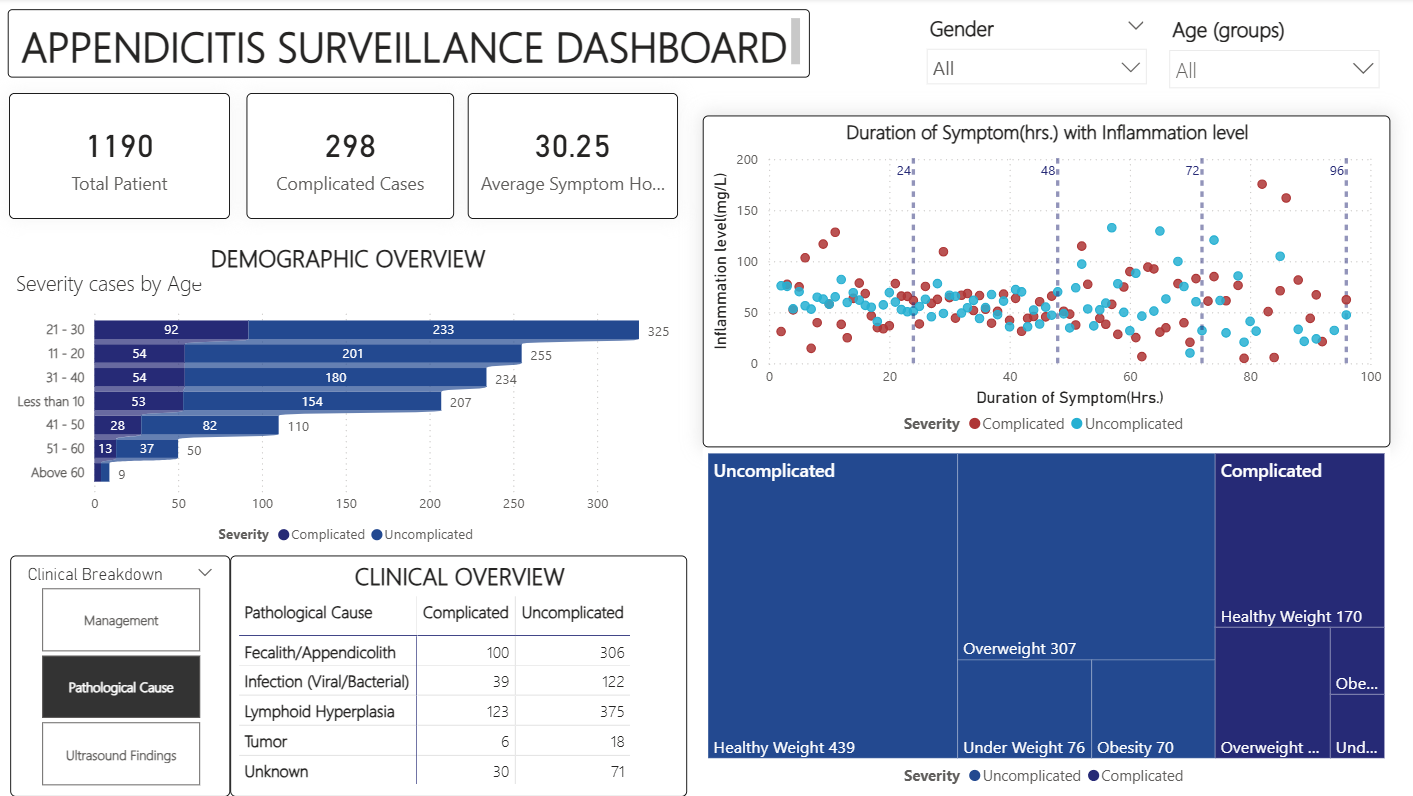

Layout of this report page (visuals, bound fields, positions):
{"tool":"powerbi","page":{"name":"Epidemiological Overview","canvas":[1280,720],"ordinal":0},"visuals":[{"type":"card","fields":{"Values":["Count(appendicitis_comprehensive_data.Patient_ID)"]},"box":[13.5,85.6,199.3,113.7],"z":0},{"type":"card","fields":{"Values":["CountNonNull(appendicitis_comprehensive_data.Patient_ID)"]},"box":[227.4,85.6,187.1,113.7],"z":1000},{"type":"textbox","box":[12.9,10,722.9,61.4],"z":2000},{"type":"slicer","fields":{"Values":["appendicitis_comprehensive_data.Gender"]},"box":[830.3,8.6,218.9,97.8],"z":3000},{"type":"slicer","fields":{"Values":["appendicitis_comprehensive_data.Age (groups)"]},"box":[1049.2,9.8,210.3,86.8],"z":4000},{"type":"card","fields":{"Values":["Avg(appendicitis_comprehensive_data.Duration_of_Symptoms_Hours)"]},"box":[426.8,85.6,189.5,113.7],"z":5000},{"type":"barChart","title":"Severity cases by Age","fields":{"Category":["appendicitis_comprehensive_data.Age (groups)"],"Series":["appendicitis_comprehensive_data.Severity"],"Y":["CountNonNull(appendicitis_comprehensive_data.Patient_ID)"]},"box":[14.7,244.3,610.1,257.8],"z":6000},{"type":"scatterChart","title":"Duration of Symptom(hrs.) with Inflammation level","fields":{"X":["appendicitis_comprehensive_data.Duration_of_Symptoms_Hours"],"Series":["appendicitis_comprehensive_data.Severity"],"Y":["Avg(appendicitis_comprehensive_data.CRP_Level_mg_L)"]},"box":[639.5,106.4,620,299.6],"z":7000},{"type":"pivotTable","title":"CLINICAL OVERVIEW","fields":{"Columns":["appendicitis_comprehensive_data.Severity"],"Rows":["appendicitis_comprehensive_data.Pathological_Cause"],"Values":["CountNonNull(appendicitis_comprehensive_data.Patient_ID)"]},"box":[212.8,502.6,412.1,217.7],"z":8000},{"type":"textbox","box":[178.5,214,282.5,42.8],"z":9000},{"type":"treemap","fields":{"Group":["appendicitis_comprehensive_data.Severity"],"Details":["appendicitis_comprehensive_data.BMI (groups)"],"Values":["CountNonNull(appendicitis_comprehensive_data.Patient_ID)"]},"box":[639.5,406,620,314.3],"z":10000},{"type":"slicer","fields":{"Values":["Clinical Breakdown.Clinical Breakdown"]},"box":[14.7,502.6,198.1,217.7],"z":11000}]}

Visuals, with their boxes in screenshot pixels (x1, y1, x2, y2), scaled from the page's 1280x720 canvas onto the 1413x796 screenshot:
card - Count(appendicitis_comprehensive_data.Patient_ID): {"x1": 15, "y1": 95, "x2": 235, "y2": 220}
card - CountNonNull(appendicitis_comprehensive_data.Patient_ID): {"x1": 251, "y1": 95, "x2": 458, "y2": 220}
textbox: {"x1": 14, "y1": 11, "x2": 812, "y2": 79}
slicer - appendicitis_comprehensive_data.Gender: {"x1": 917, "y1": 10, "x2": 1158, "y2": 118}
slicer - appendicitis_comprehensive_data.Age (groups): {"x1": 1158, "y1": 11, "x2": 1390, "y2": 107}
card - Avg(appendicitis_comprehensive_data.Duration_of_Symptoms_Hours): {"x1": 471, "y1": 95, "x2": 680, "y2": 220}
"Severity cases by Age" barChart: {"x1": 16, "y1": 270, "x2": 690, "y2": 555}
"Duration of Symptom(hrs.) with Inflammation level" scatterChart: {"x1": 706, "y1": 118, "x2": 1390, "y2": 449}
"CLINICAL OVERVIEW" pivotTable: {"x1": 235, "y1": 556, "x2": 690, "y2": 795}
textbox: {"x1": 197, "y1": 237, "x2": 509, "y2": 284}
treemap - appendicitis_comprehensive_data.Severity x appendicitis_comprehensive_data.BMI (groups): {"x1": 706, "y1": 449, "x2": 1390, "y2": 795}
slicer - Clinical Breakdown.Clinical Breakdown: {"x1": 16, "y1": 556, "x2": 235, "y2": 795}
